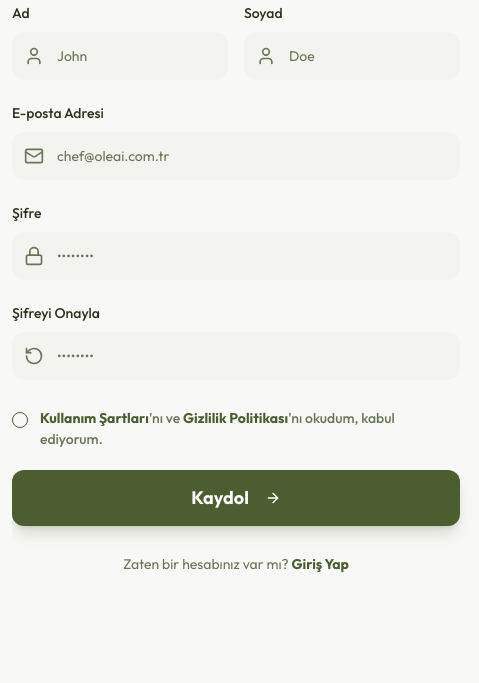
Scenario: RegisterForm › validates password mismatch
Type "password123" into the password field labelled "Şifre".
click(236, 256); type("password123")  # box [12,232,460,280]
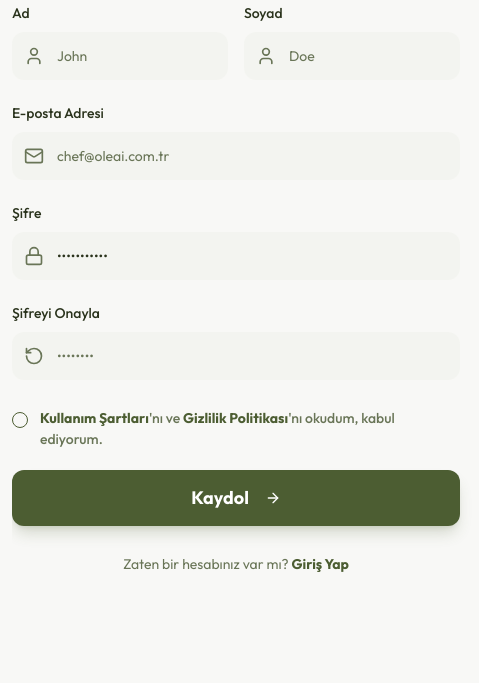
Type "password124" into the password field labelled "Şifreyi Onayla".
click(236, 356); type("password124")  # box [12,332,460,380]
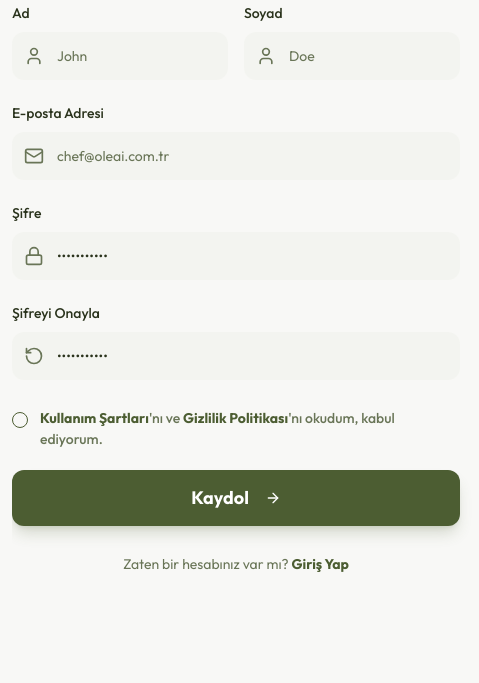
Click the button "Kaydol".
click(236, 498)  # box [12,470,460,526]
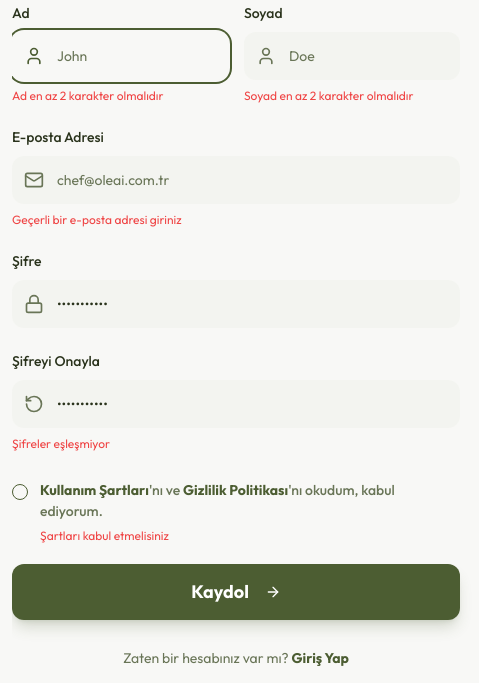
Now the text "Şifreler eşleşmiyor" is shown, box [12,436,110,451]
